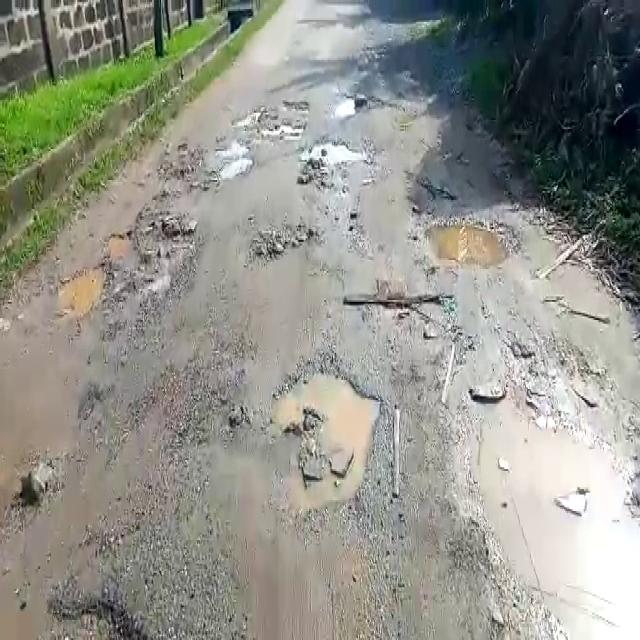Pothole: (455, 409, 640, 640), (270, 362, 384, 518), (424, 211, 525, 265), (52, 594, 164, 640), (106, 216, 195, 272), (351, 290, 456, 328), (56, 261, 110, 317), (301, 138, 370, 168), (249, 114, 311, 139), (214, 144, 253, 178)
